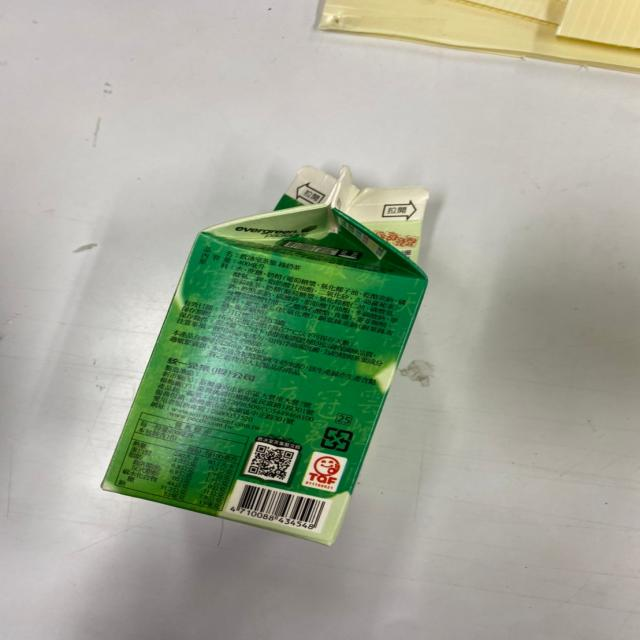non_white_jug: (67, 136, 464, 586)
